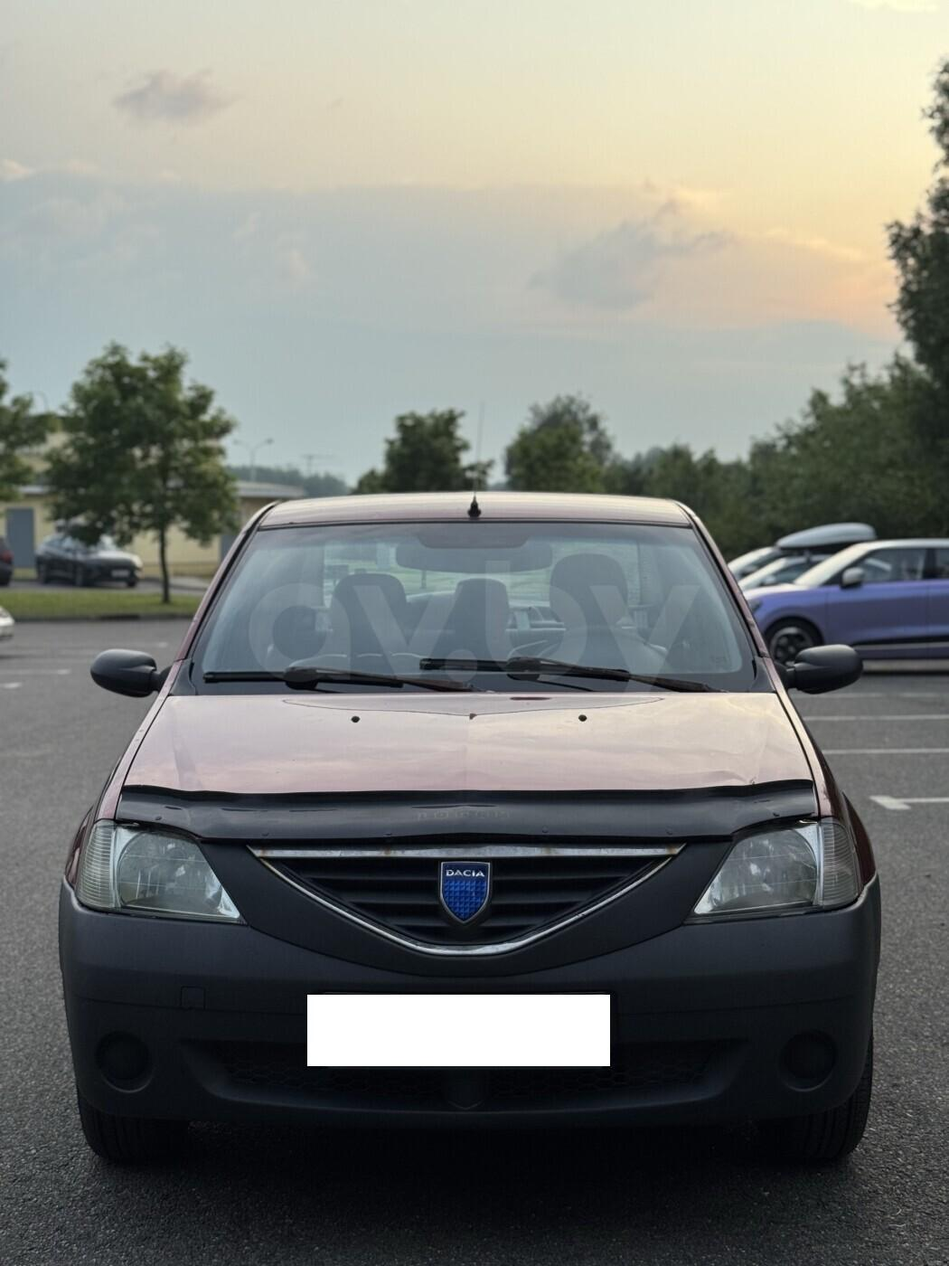Logan_2004-2009: (45, 492, 888, 1197)
